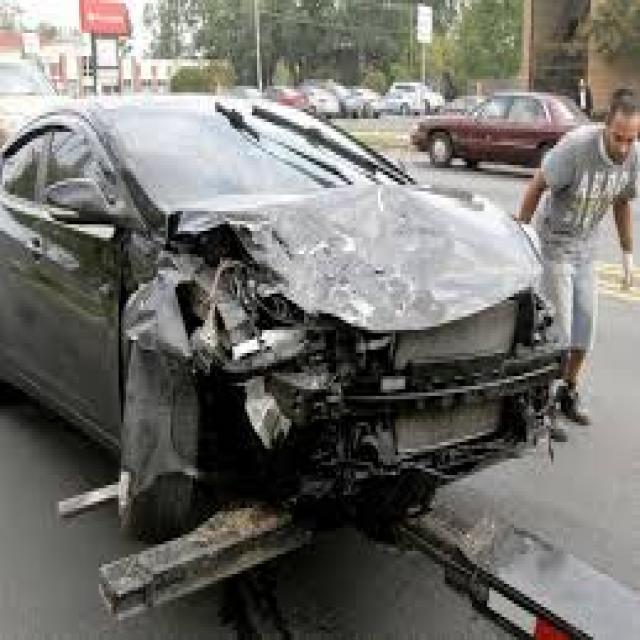accident: (6, 80, 592, 573)
